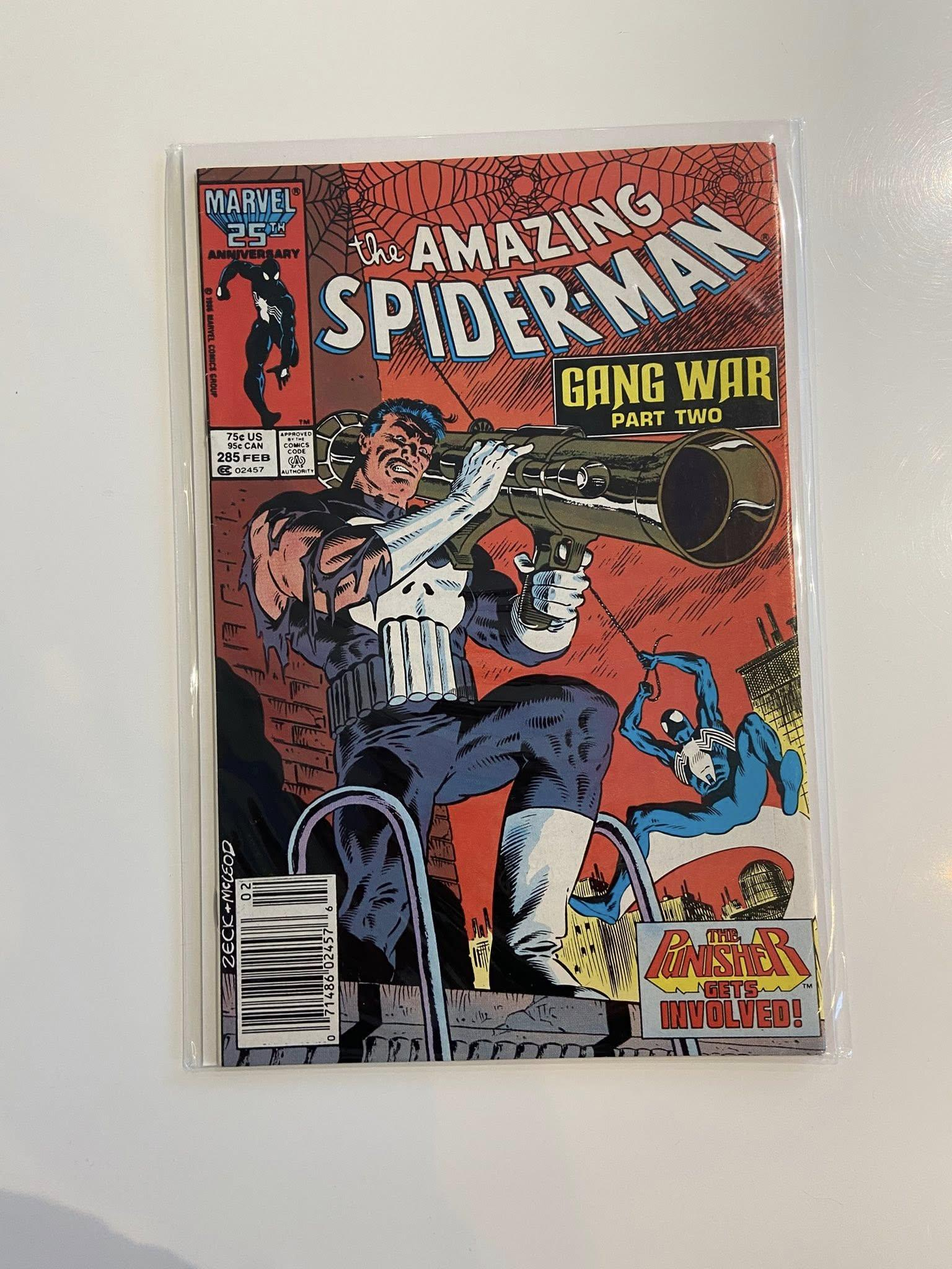comic: (171, 140, 826, 1080)
